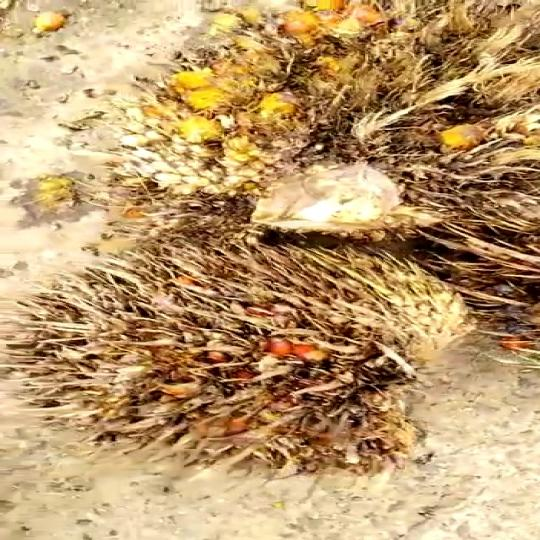terlalu masak: (0, 243, 506, 487)
